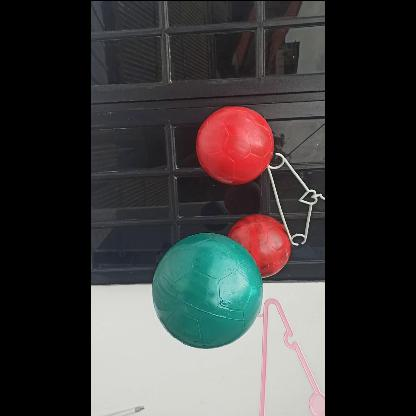red_ball: (194, 104, 274, 184)
